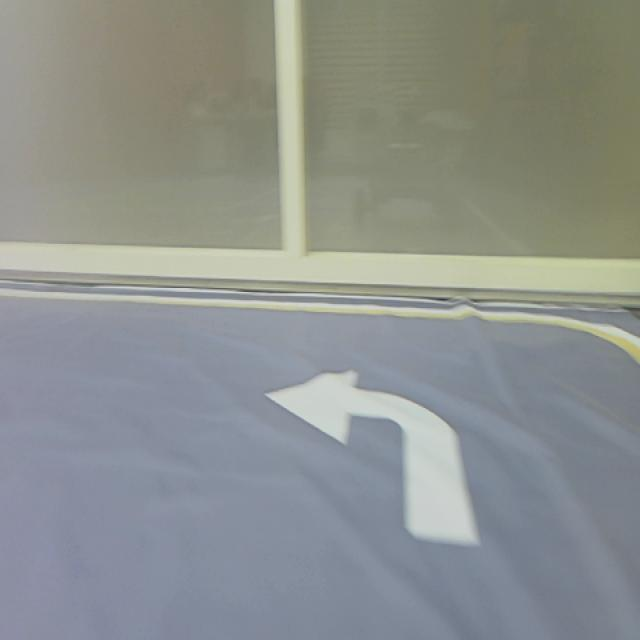right_lane: (1, 289, 584, 330)
